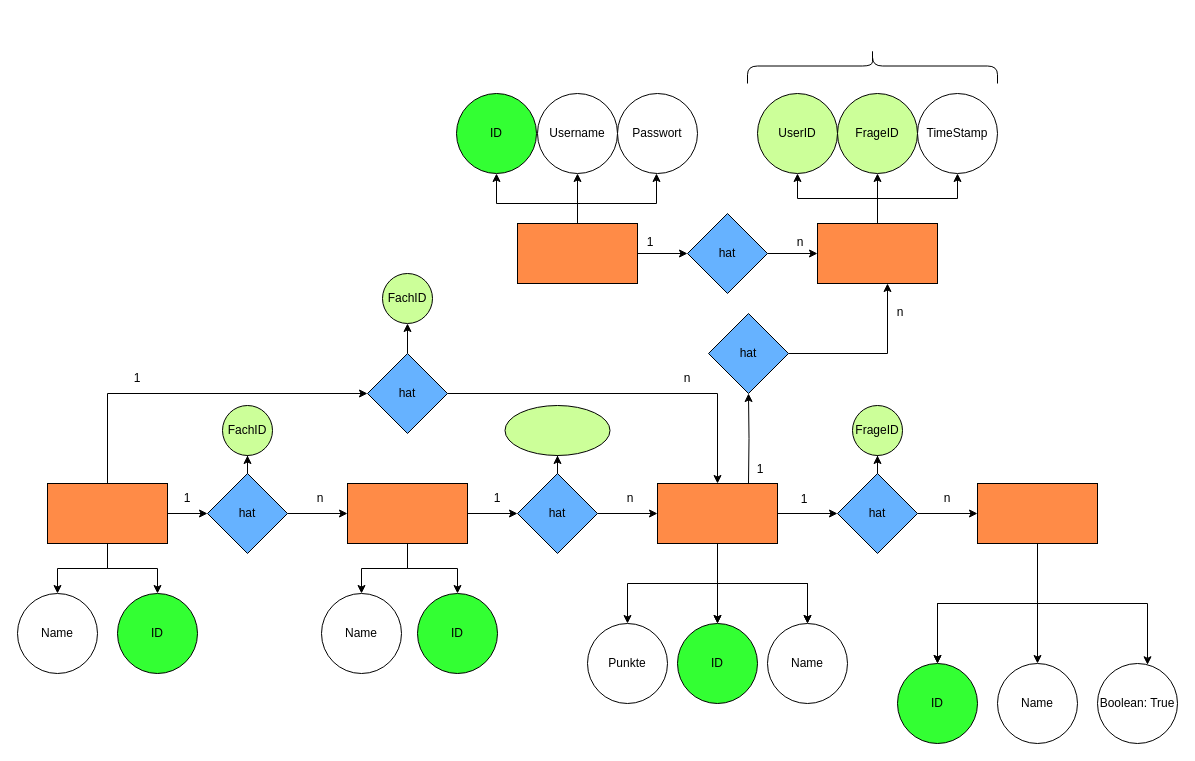
Some shapes in this 1195 by 761 pixel diagram are drawn without their labels. The shapes that lost their labels are listed below. From the top down, each one's box as (x1, y1, x2, y2) in pixels, then its label:
(746, 48, 998, 84): Alle 3 zusammen ergeben den Primary Key
(516, 222, 638, 284): User
(816, 222, 938, 284): User_Fragen
(504, 404, 610, 456): ThemengebietID
(46, 482, 168, 544): Fach
(346, 482, 468, 544): Themengebiet
(656, 482, 778, 544): Frage
(976, 482, 1098, 544): Antwort
